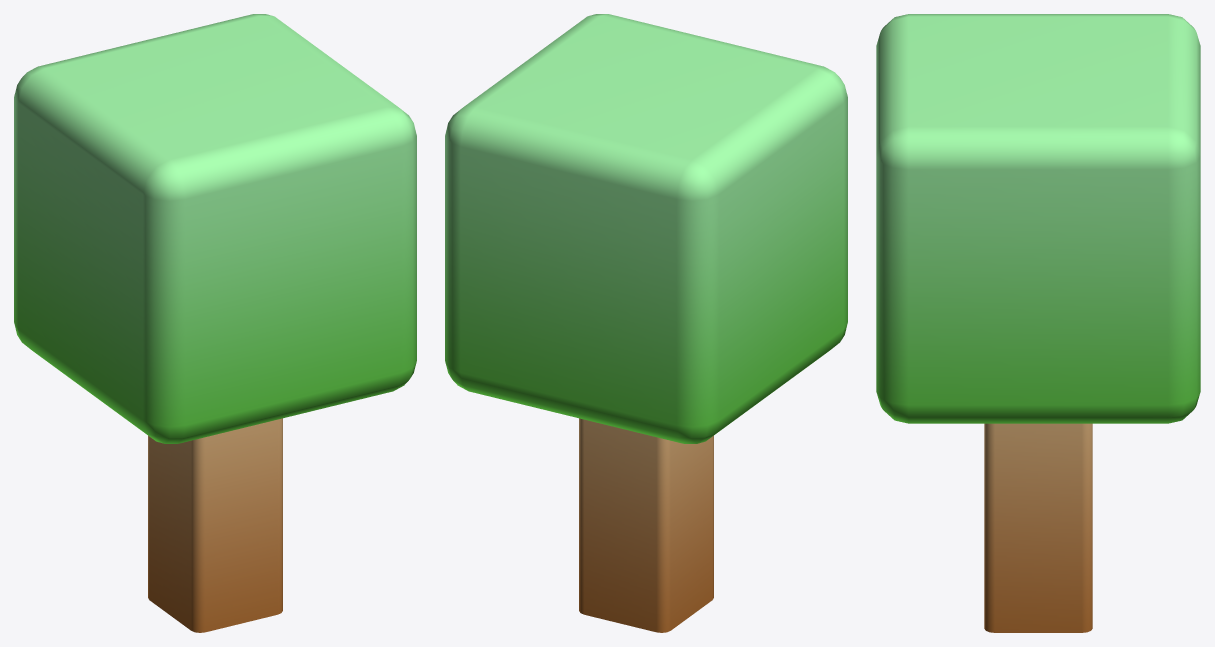
Rendered from tree.fbx.
3 renders of one model, left to right at view 1: azimuth 30°, elevation 25°; view 2: azimuth 150°, elevation 25°; view 3: azimuth 270°, elevation 25°, orthographic. The views are drawn at different scales.
Visible parts, largest first — view 1: Tree; view 2: Tree; view 3: Tree.
Boxes of the visible parts, x1,y1,x2,y2 form: Tree: (14, 14, 416, 632); Tree: (445, 14, 847, 632); Tree: (876, 14, 1200, 632).
Bounding box in the file's own units: 101 × 185 × 101.
Materials: 1 (1 with a texture image).
